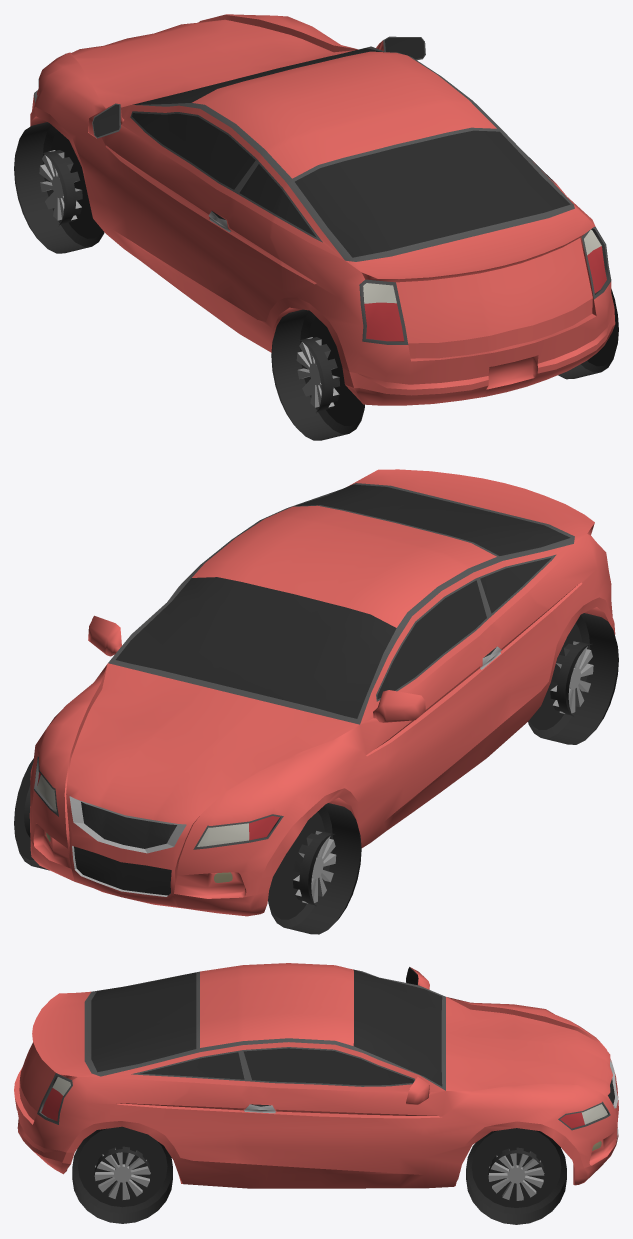
File: sedan.glb
3 views of the same model, one above another, from view 1: azimuth 30°, elevation 25°; view 2: azimuth 150°, elevation 25°; view 3: azimuth 270°, elevation 25° (orthographic). The views are drawn at different scales.
Visible parts, largest first — view 1: SedanBody, SedanTires1, SedanTires2; view 2: SedanBody, SedanTires2, SedanTires1; view 3: SedanBody, SedanTires2, SedanTires1.
Boxes of the visible parts, x1,y1,x2,y2 form: SedanBody: (30, 14, 615, 405); SedanTires1: (271, 289, 618, 440); SedanTires2: (14, 122, 104, 253); SedanBody: (29, 469, 615, 916); SedanTires2: (14, 758, 361, 934); SedanTires1: (528, 613, 618, 744); SedanBody: (14, 963, 618, 1188); SedanTires2: (466, 1128, 566, 1224); SedanTires1: (72, 1126, 172, 1223).
Size of the model in its own units: 4.51 by 3.03 by 9.28.
